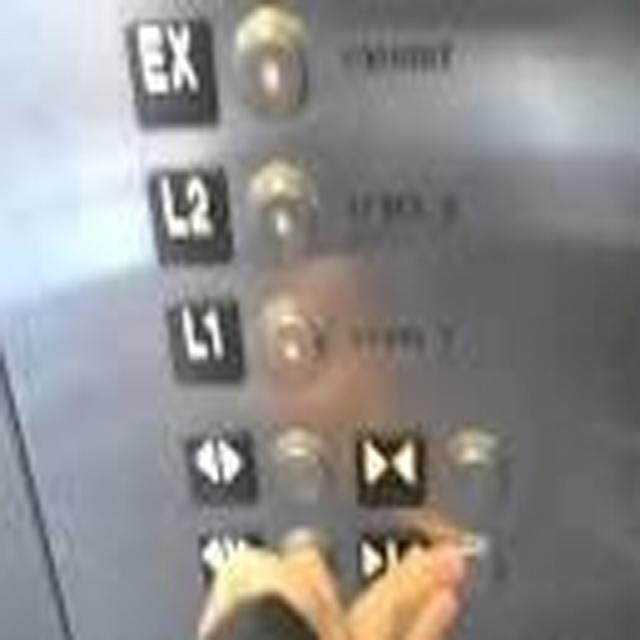EX: (117, 11, 222, 132)
L1: (160, 287, 249, 388)
L2: (142, 162, 237, 270)
close: (347, 419, 429, 509)
empty: (225, 3, 320, 129), (240, 154, 324, 266), (250, 282, 334, 394), (266, 422, 336, 514)
open: (178, 421, 261, 512)
